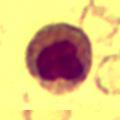lymphocyte: (21, 21, 96, 99)
